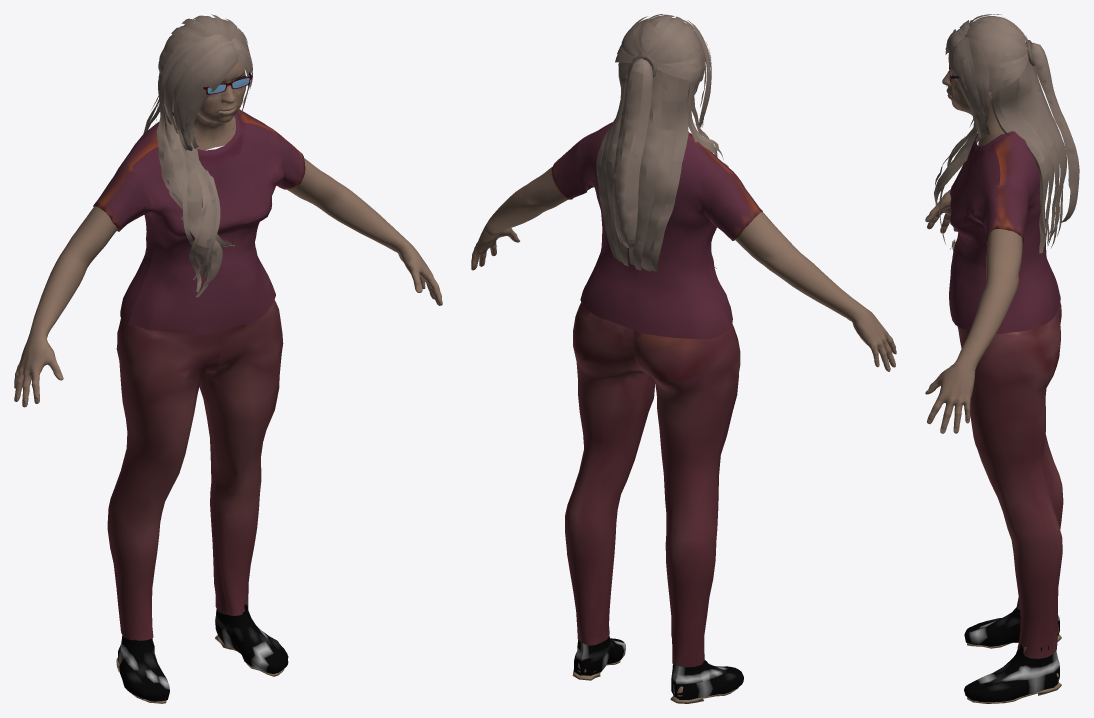
The model's file is 0295-People-cast-cooked-mh-64.glb.
The picture shows the model from 3 angles, left to right: view 1: azimuth 30°, elevation 25°; view 2: azimuth 150°, elevation 25°; view 3: azimuth 270°, elevation 25°; orthographic projection.
Parts seen in each view (by area): view 1: People: cast (cooked)/mh_64; view 2: People: cast (cooked)/mh_64; view 3: People: cast (cooked)/mh_64.
Part boxes in pixels (left/top/right/bottom): People: cast (cooked)/mh_64: left=14, top=14, right=442, bottom=703; People: cast (cooked)/mh_64: left=471, top=14, right=896, bottom=703; People: cast (cooked)/mh_64: left=925, top=14, right=1079, bottom=703.
Bounding box in the file's own units: 1.06 × 1.6 × 0.3422.
